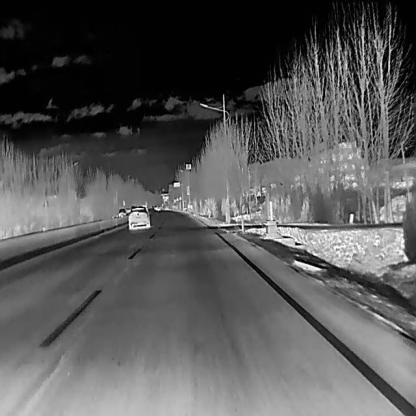car: (127, 205, 150, 229), (117, 207, 126, 217)
